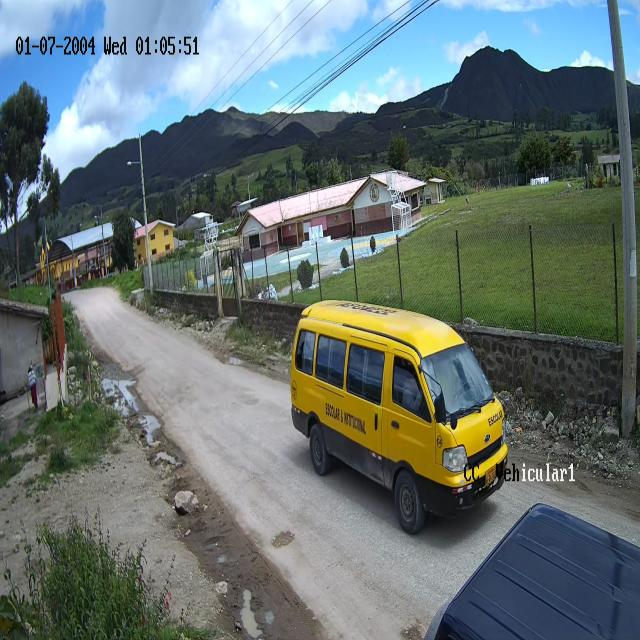BUS: (288, 302, 510, 536)
